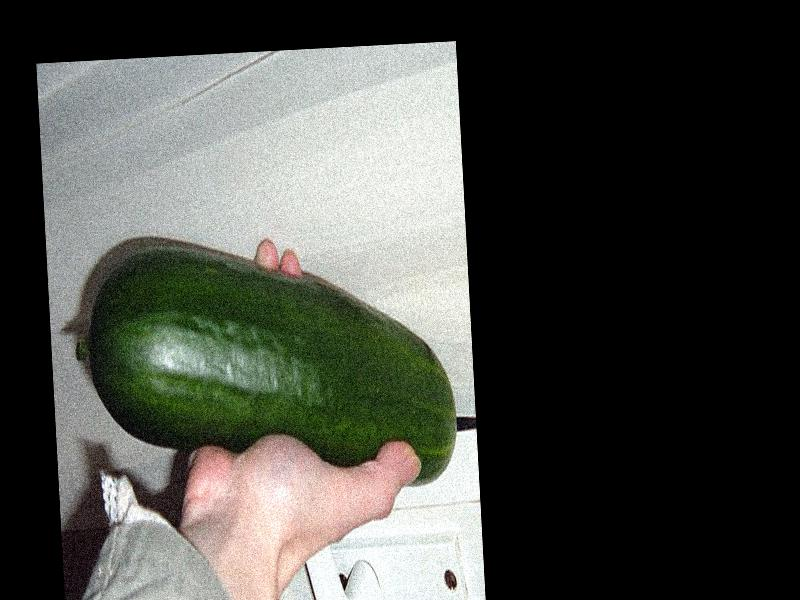Cucumber: (69, 222, 459, 502)
